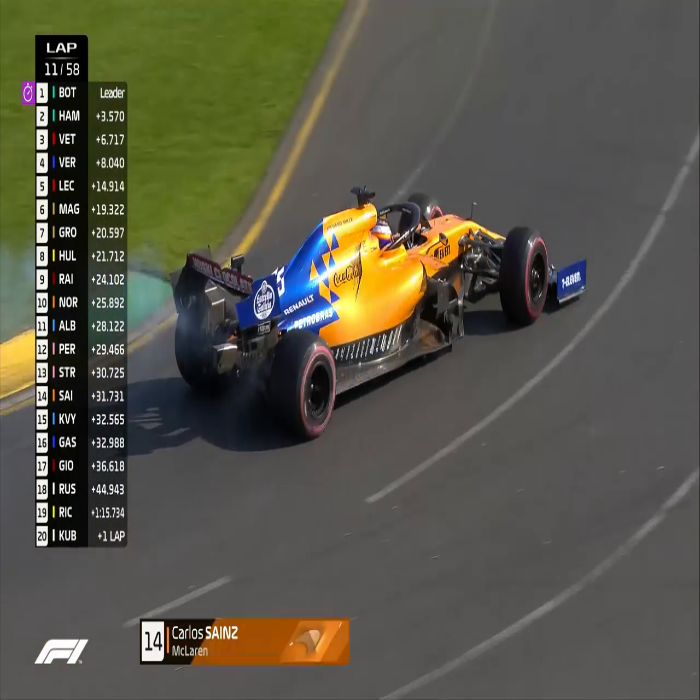f1_car: (154, 168, 625, 456)
